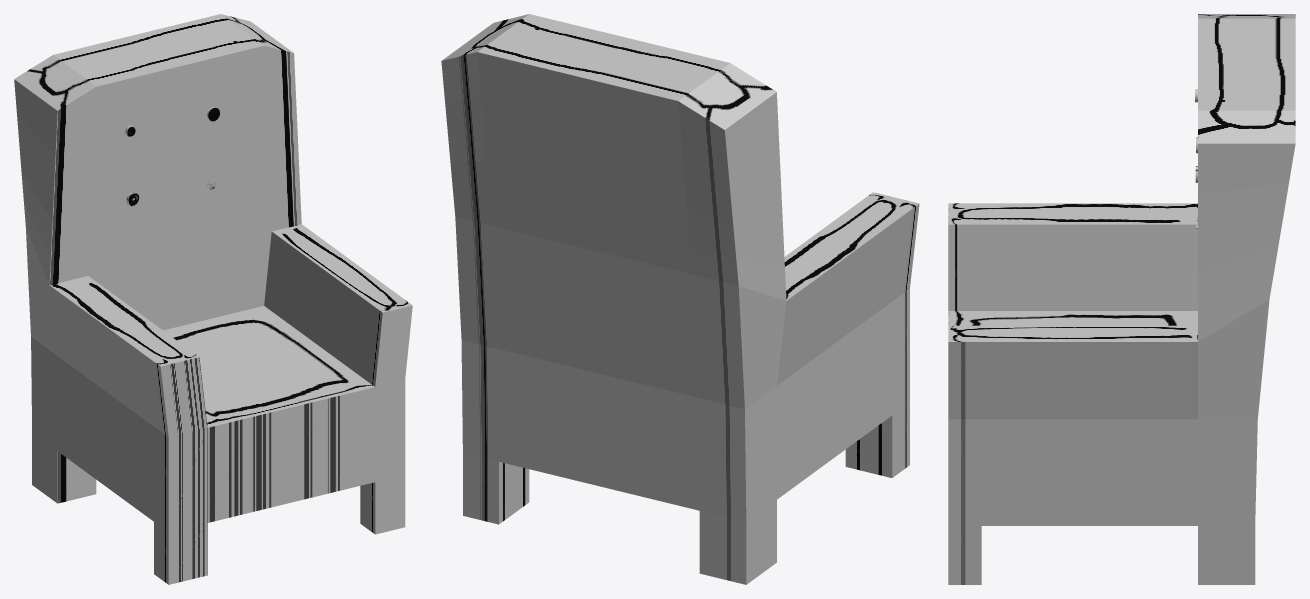
File: HANA_chair.glb
3 views of the same model, side by side, from view 1: azimuth 30°, elevation 25°; view 2: azimuth 150°, elevation 25°; view 3: azimuth 270°, elevation 25° (orthographic). The views are drawn at different scales.
Visible parts, largest first — view 1: Plane; view 2: Plane; view 3: Plane.
Part boxes in pixels (bbox=[...]): Plane: bbox=[14, 14, 412, 584]; Plane: bbox=[441, 14, 919, 584]; Plane: bbox=[948, 14, 1295, 584].
Size of the model in its own units: 2.13 by 3.29 by 2.26.
1 material, 1 textured.
